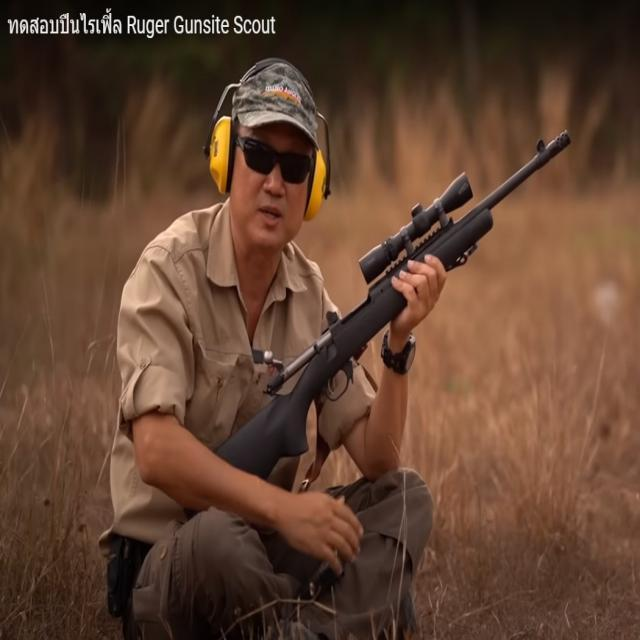rifle: (188, 119, 579, 499)
